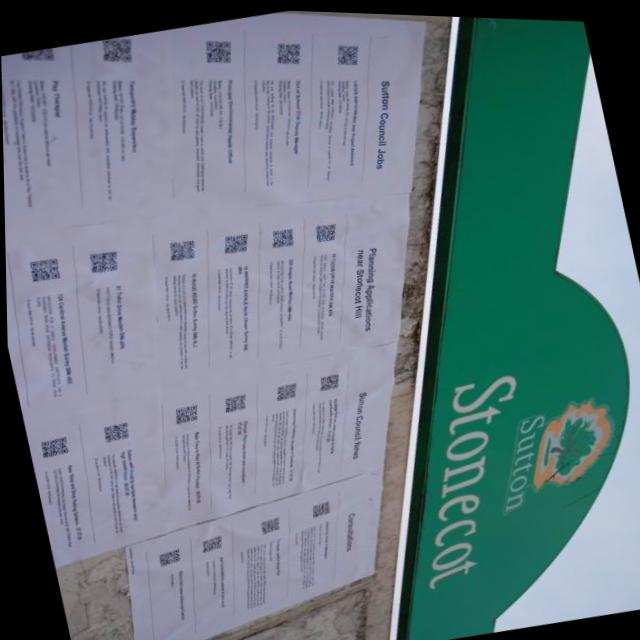qrcode: (100, 35, 135, 67), (202, 36, 236, 67), (273, 39, 303, 67), (27, 258, 59, 284), (87, 250, 118, 275), (333, 41, 361, 67), (38, 436, 67, 460), (167, 238, 196, 262), (221, 232, 250, 255), (21, 48, 56, 67), (268, 226, 295, 248), (170, 404, 198, 425), (101, 423, 129, 444), (312, 221, 338, 242), (221, 394, 247, 413), (273, 382, 297, 401), (197, 534, 221, 553), (156, 549, 179, 568), (316, 372, 339, 391), (257, 516, 280, 534), (309, 500, 330, 517)
